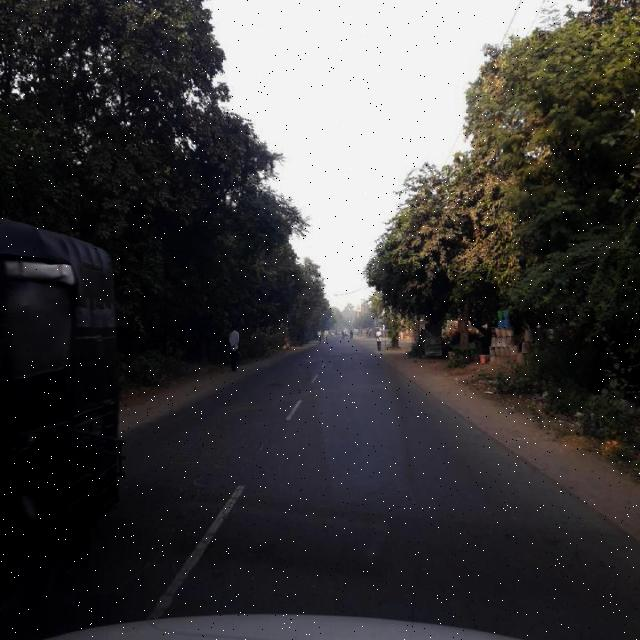D0w0: (134, 434, 236, 588)
